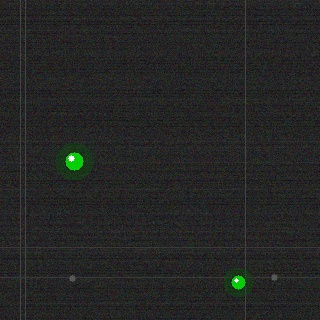green_normal: (63, 150, 85, 172), (229, 273, 247, 291)
